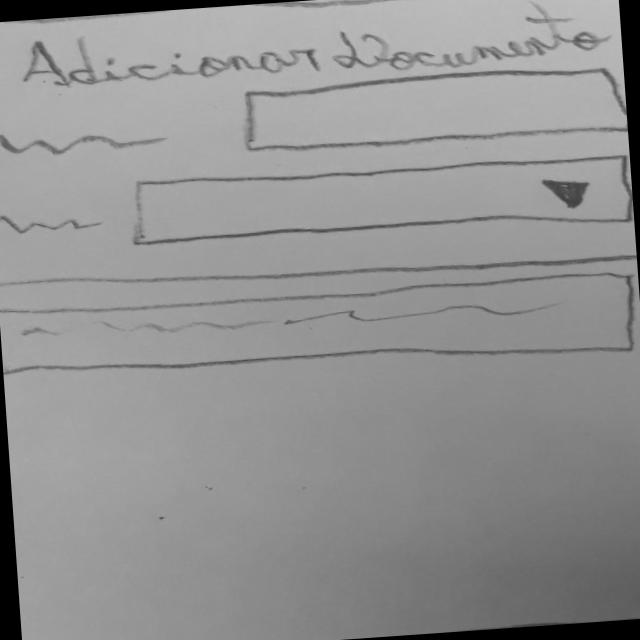container: (1, 238, 640, 640), (1, 1, 637, 308), (239, 61, 629, 162)
input: (1, 261, 640, 399)
label: (19, 1, 613, 100)
select: (129, 142, 636, 261)
text: (1, 121, 173, 163), (1, 206, 112, 240)
